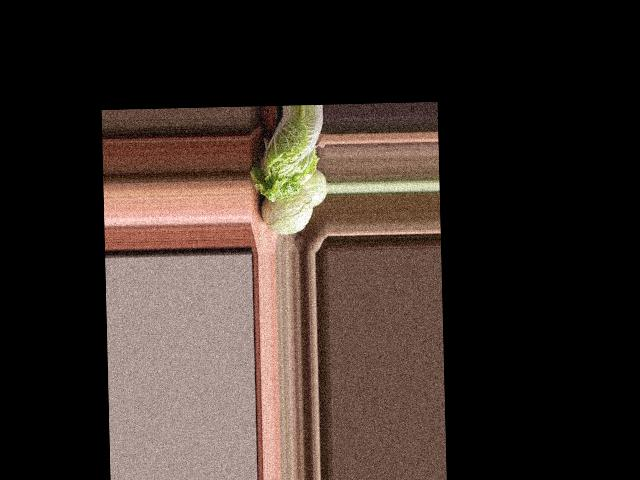lettuce: (247, 120, 326, 237)
